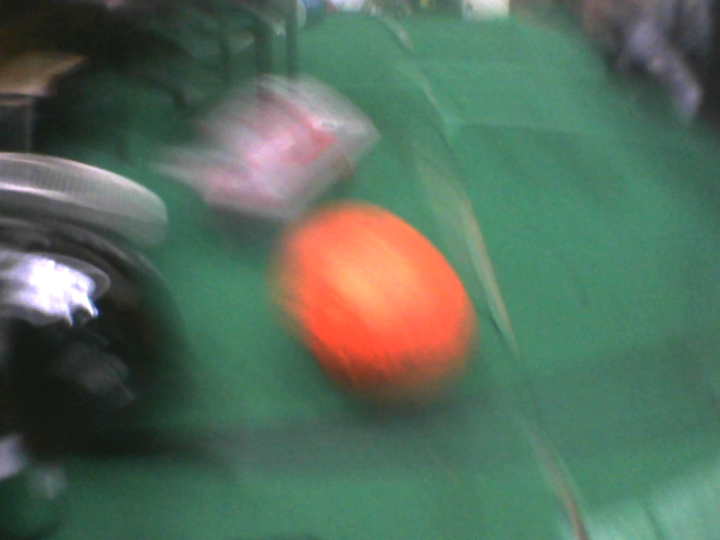bola: (273, 194, 498, 416)
